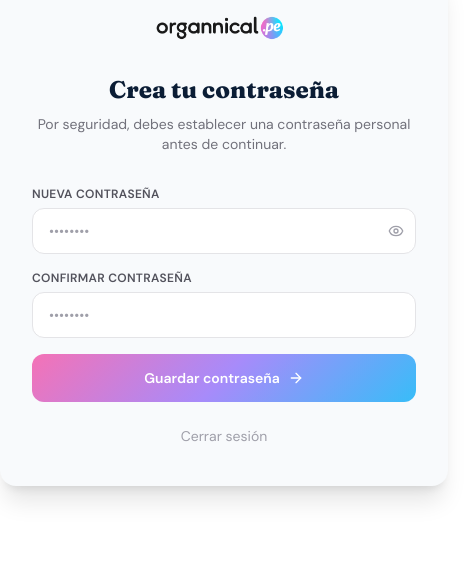
CambiarContrasenaPage — validaciones cliente › muestra error si las contraseñas no coinciden
Type "contraseña123" into the password field labelled "Nueva contraseña".
click(224, 231); type("contraseña123")  # box x1=32 y1=208 x2=416 y2=254
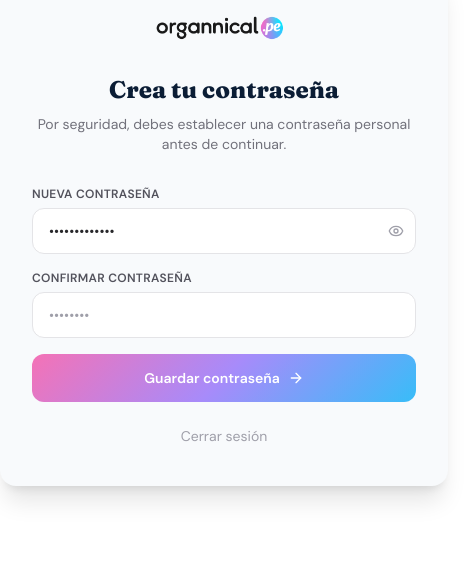
Type "contraseña456" into the password field labelled "Confirmar contraseña".
click(224, 315); type("contraseña456")  # box x1=32 y1=292 x2=416 y2=338
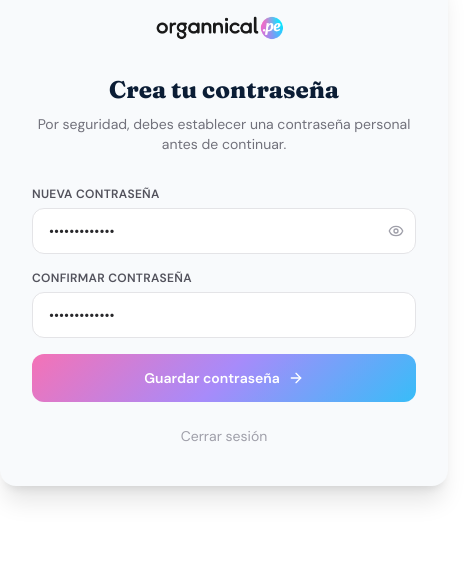
Click the button "Guardar contraseña".
click(224, 378)  # box x1=32 y1=354 x2=416 y2=402
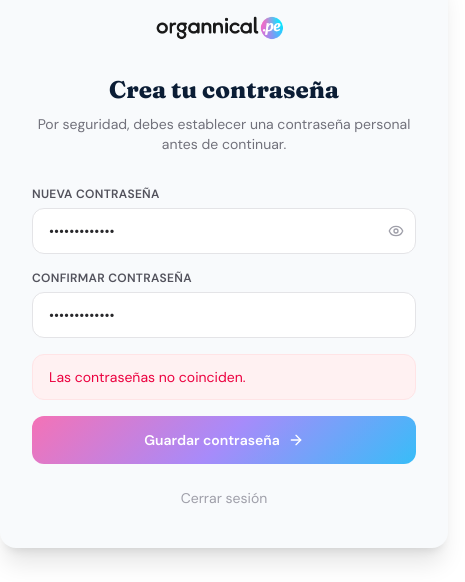
Now the text "Las contraseñas no coinciden." is shown, box x1=32 y1=354 x2=416 y2=400
